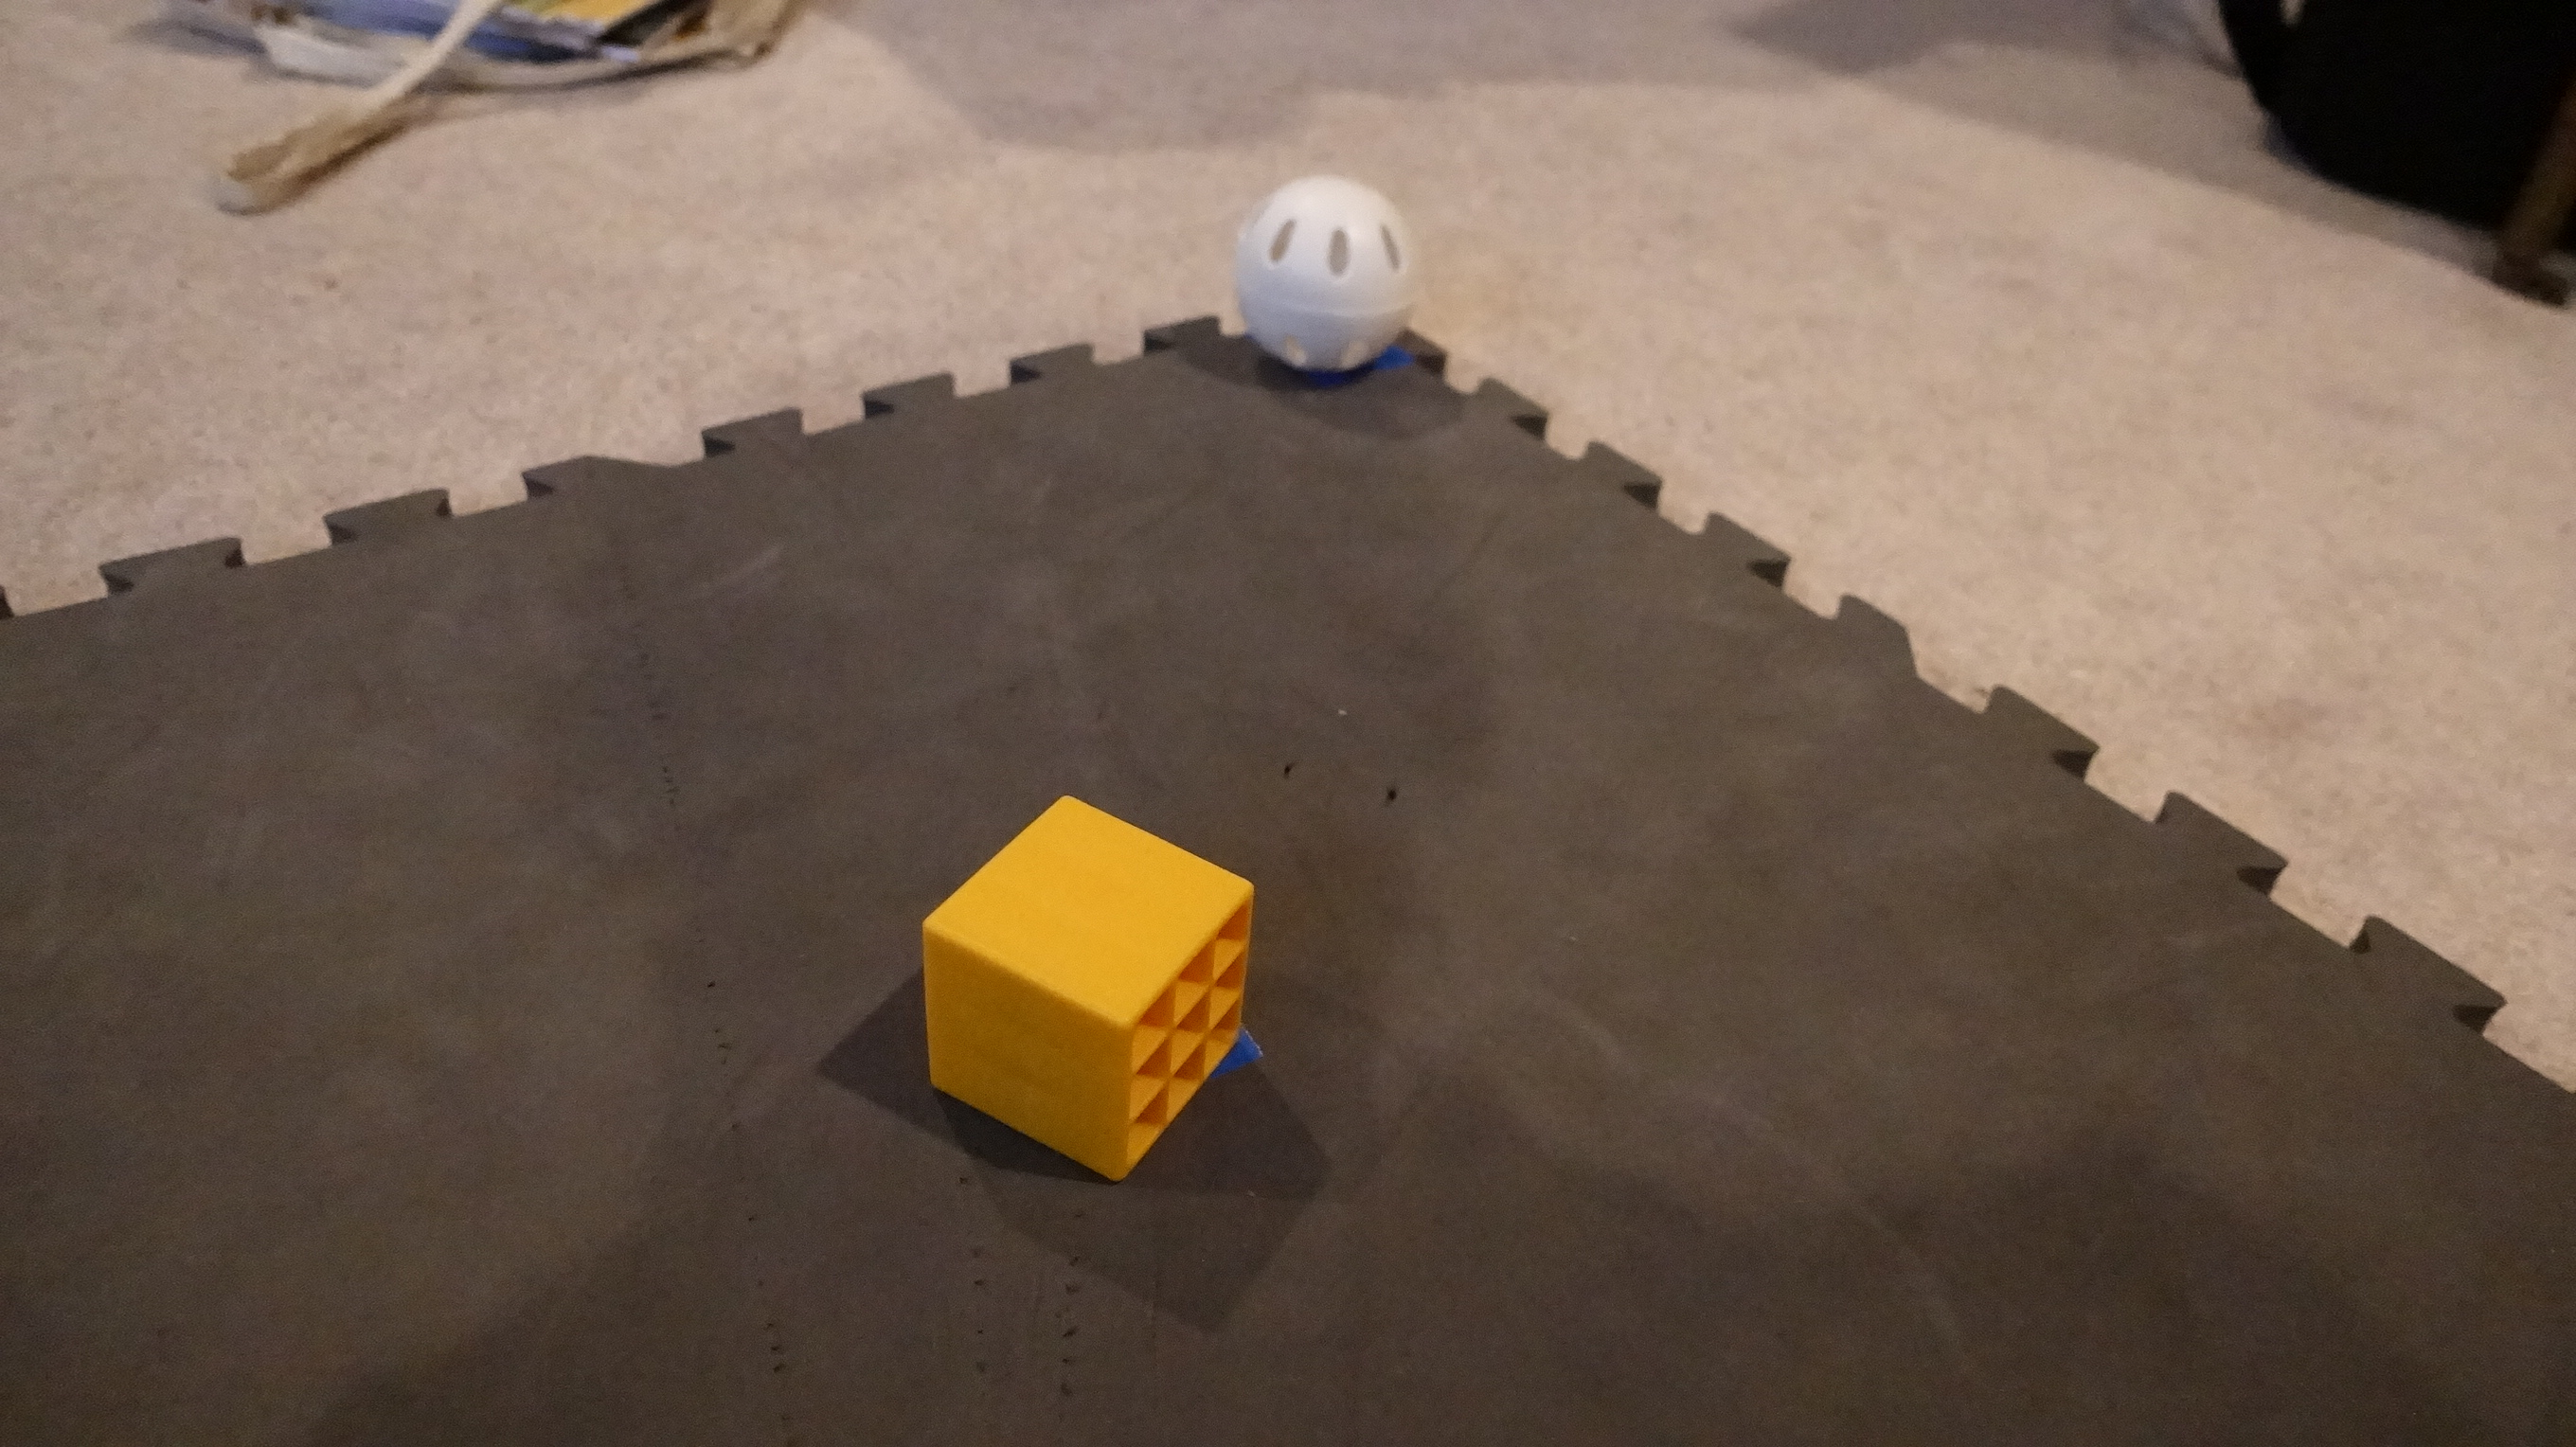gold: (909, 792, 1263, 1187)
silver: (1230, 172, 1417, 377)
